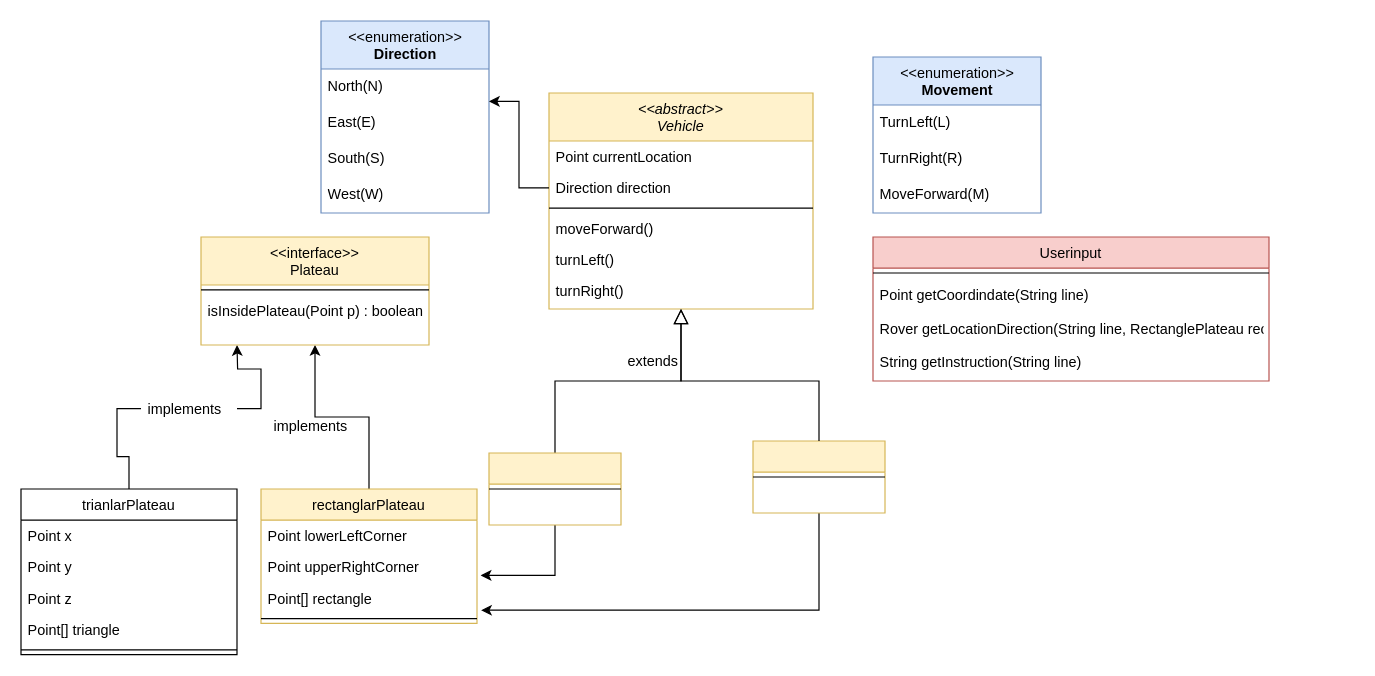
This 1375x676 diagram has some shape labels left out. Each missing label, with the centre of its shape:
"Car" goes at (818,476).
"Rover" goes at (554,488).
